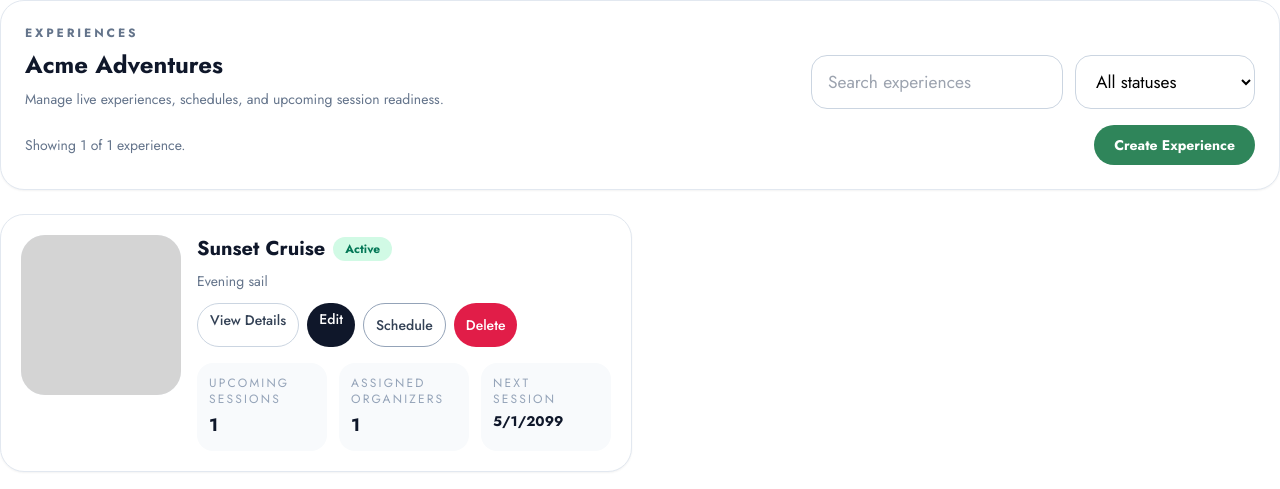
it: OrgExperiencesPanel › renders experience cards and filters them by search term
Expected: the heading "Sunset Cruise" is shown, x1=197 y1=235 x2=325 y2=263
Type "dolphin" into the field with placeholder "Search experiences" at (937, 82), box x1=811 y1=55 x2=1063 y2=109
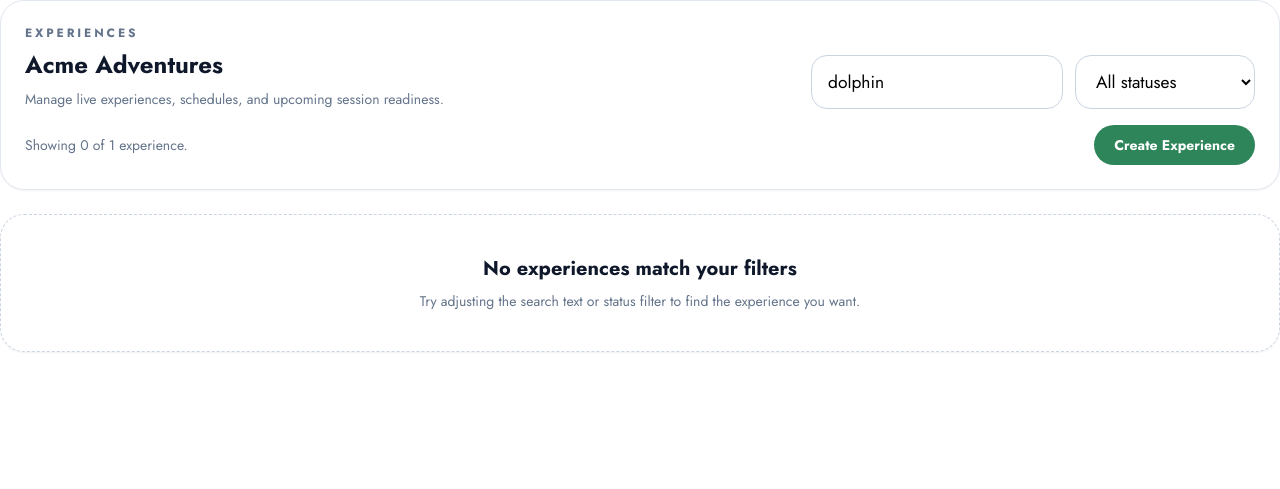
Now the heading "No experiences match your filters" is shown, box x1=483 y1=254 x2=797 y2=283
